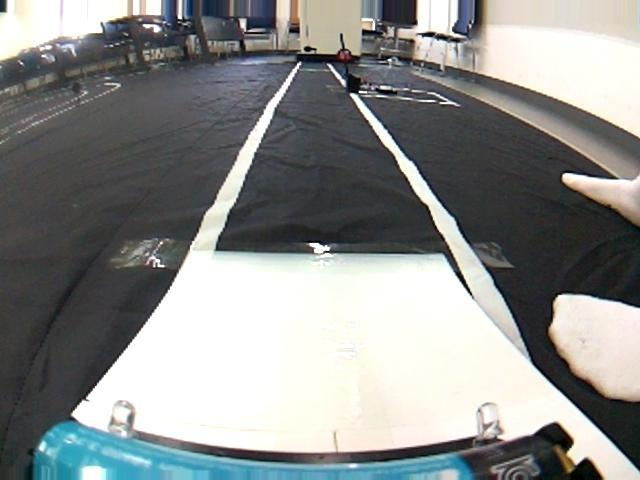hill_down: (11, 132, 640, 480)
sign_stop: (338, 47, 354, 62)
